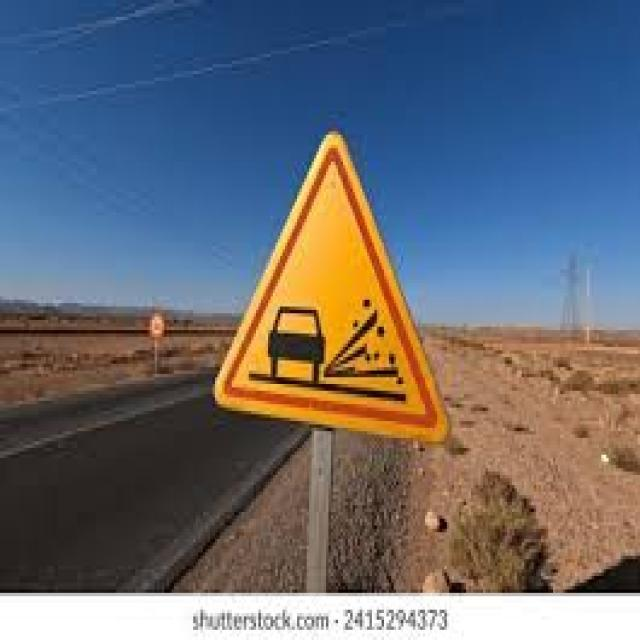loose gravel: (211, 120, 453, 451)
